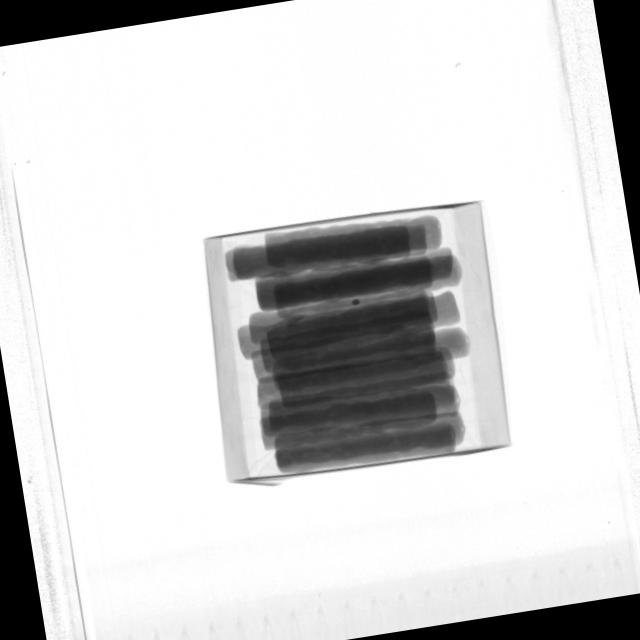ym: (285, 314, 309, 329), (352, 299, 361, 308)
